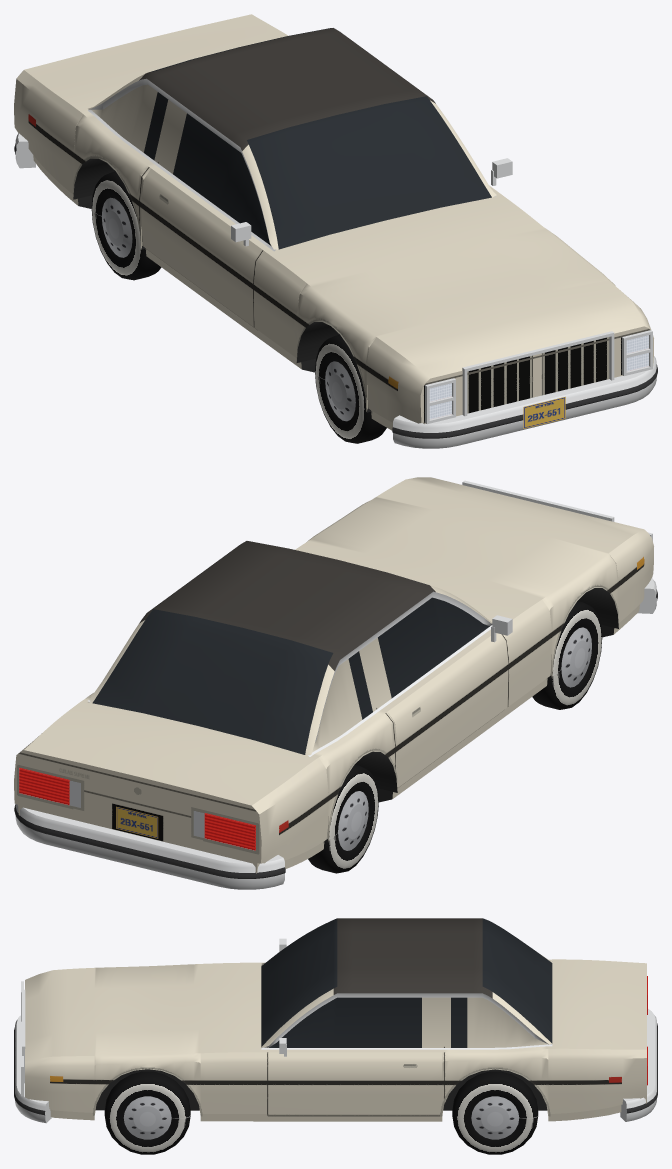
Rendered from cutlass.glb.
3 renders of one model, top to bottom at view 1: azimuth 30°, elevation 25°; view 2: azimuth 150°, elevation 25°; view 3: azimuth 270°, elevation 25°, orthographic. The views are drawn at different scales.
Visible parts, largest first — view 1: Body, Wheel_FR, Wheel_RR, HeadlightEmit; view 2: Body, Wheel_FR, Wheel_RR, TailLightEmit; view 3: Body, Wheel_RL, Wheel_FL.
Boxes of the visible parts, box(x1,y1,x2,y2) form: Body: box(14, 14, 657, 448); Wheel_FR: box(315, 334, 386, 443); Wheel_RR: box(91, 171, 161, 280); HeadlightEmit: box(429, 335, 648, 419); Body: box(14, 477, 657, 889); Wheel_FR: box(532, 601, 602, 709); Wheel_RR: box(308, 764, 378, 873); TailLightEmit: box(19, 767, 255, 850); Body: box(14, 918, 657, 1123); Wheel_RL: box(452, 1071, 538, 1154); Wheel_FL: box(104, 1071, 190, 1154).
Size of what is drawn, in the model's own units: 1.97 by 1.41 by 5.1.
Materials: 13 (13 with a texture image).
